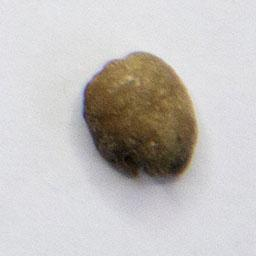defect: (75, 44, 205, 191)
